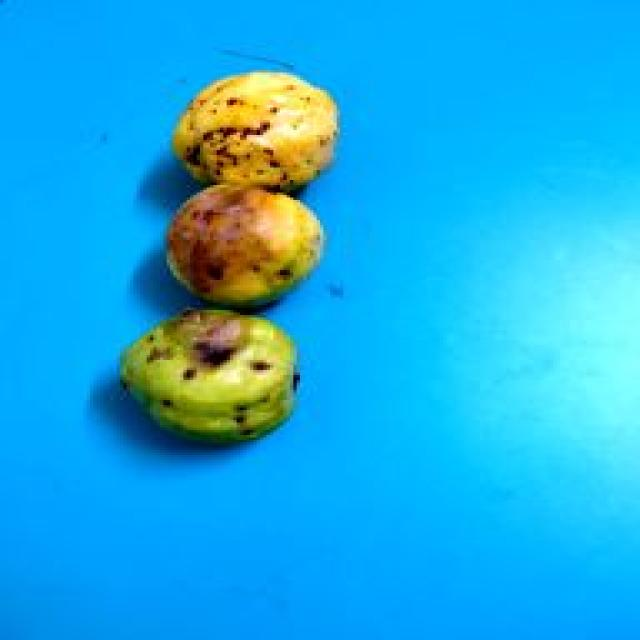Bad_Guava: (175, 72, 335, 191), (167, 185, 322, 307)
